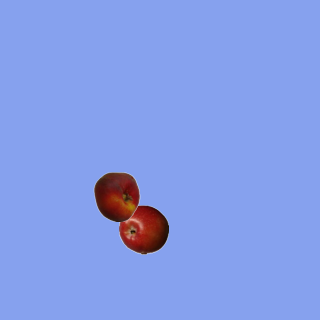Apple Braeburn: (118, 204, 168, 254)
Nectarine Flat: (91, 171, 141, 221)
